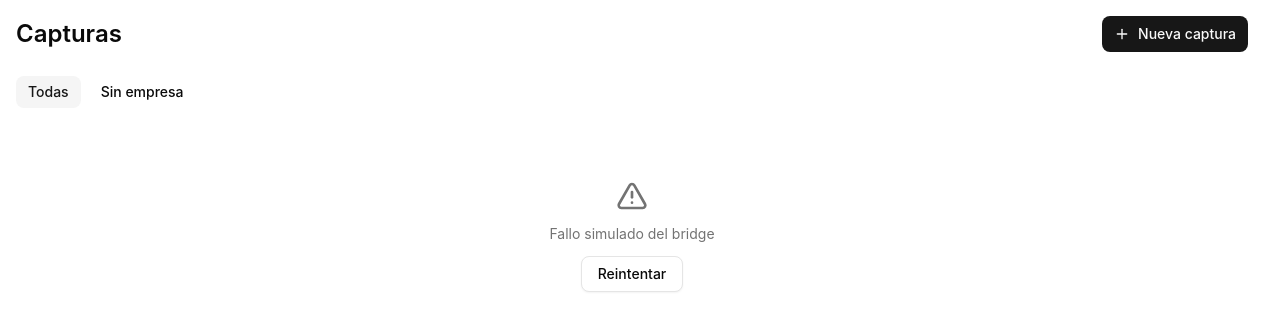
Scenario: CapturesPage › listing › shows the error state with the bridge message and recovers on "Reintentar"
Expected: the text "Fallo simulado del bridge" is shown, [549,224,714,244]
Step 1. Click the button "Reintentar" → coordinates (632, 274), box [581,256,683,292]
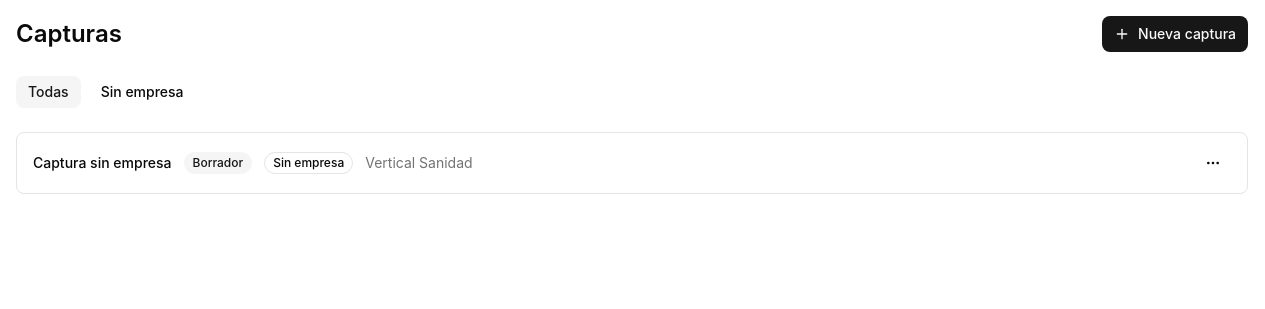
Result: the link "Captura sin empresa" is shown at [33,153,172,173]
